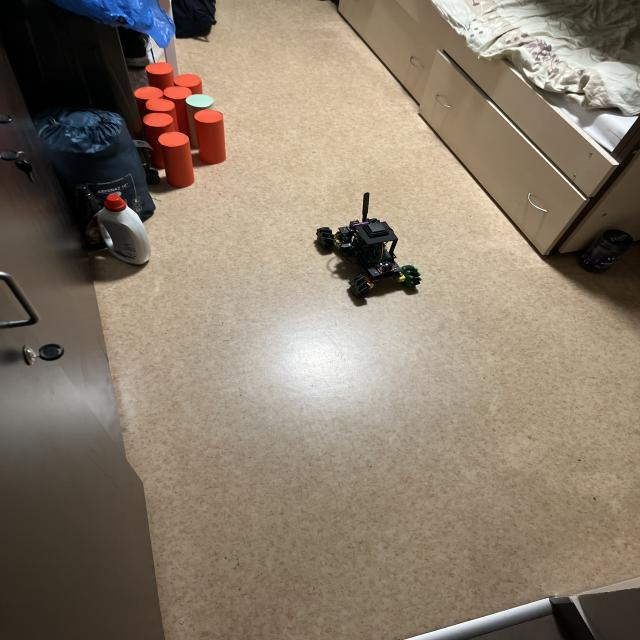robot: (316, 193, 421, 298)
